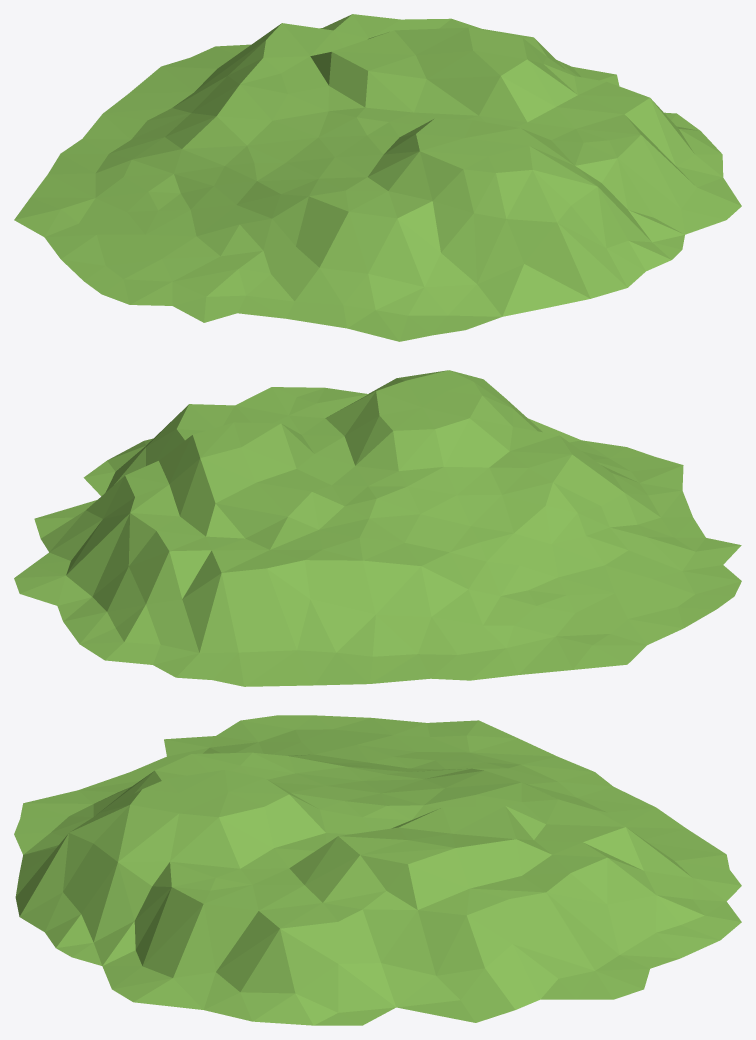
File: MT_Mountain_M_c_10_LOD.fbx
3 views of the same model, one above another, from view 1: azimuth 30°, elevation 25°; view 2: azimuth 150°, elevation 25°; view 3: azimuth 270°, elevation 25° (orthographic). The views are drawn at different scales.
Visible parts, largest first — view 1: MT_Mountain_M_c_10_LOD0; view 2: MT_Mountain_M_c_10_LOD0; view 3: MT_Mountain_M_c_10_LOD0.
Part boxes in pixels (<box>): MT_Mountain_M_c_10_LOD0: <box>14,14,741,341</box>; MT_Mountain_M_c_10_LOD0: <box>14,370,741,686</box>; MT_Mountain_M_c_10_LOD0: <box>14,715,741,1025</box>.
Size of what is drawn, in the model's own units: 4688 by 673 by 4648.
